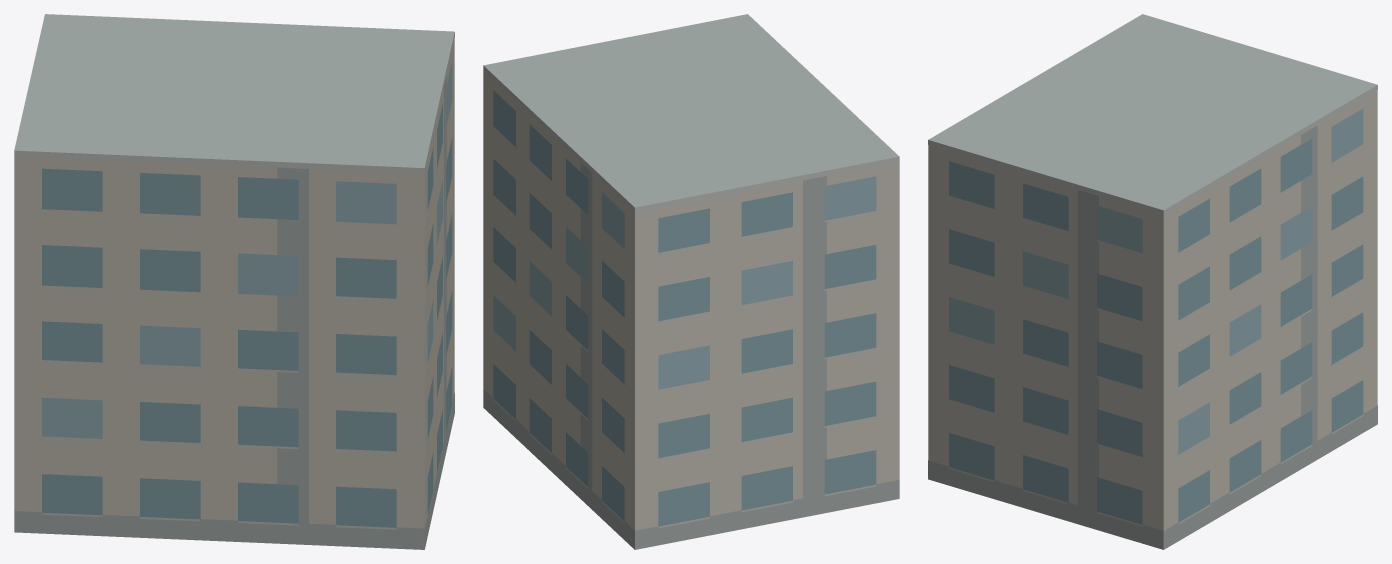
Rendered from survey-upis-32832204.glb.
3 views of the same model, side by side, from view 1: azimuth 30°, elevation 25°; view 2: azimuth 150°, elevation 25°; view 3: azimuth 270°, elevation 25° (orthographic). The views are drawn at different scales.
Parts seen in each view (by area): view 1: survey-upis-32832204.tmp; view 2: survey-upis-32832204.tmp; view 3: survey-upis-32832204.tmp.
Part boxes in pixels (x1=…): survey-upis-32832204.tmp: x1=14, y1=14, x2=454, y2=549; survey-upis-32832204.tmp: x1=483, y1=14, x2=899, y2=549; survey-upis-32832204.tmp: x1=928, y1=14, x2=1377, y2=549.
Bounding box in the file's own units: 19.73 × 15.9 × 19.09.
